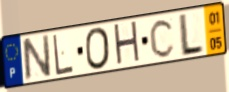C: (149, 17, 177, 60)
H: (112, 19, 142, 69)
L: (179, 11, 205, 59), (52, 32, 75, 77)
N: (20, 32, 53, 84)
O: (83, 25, 112, 71)
